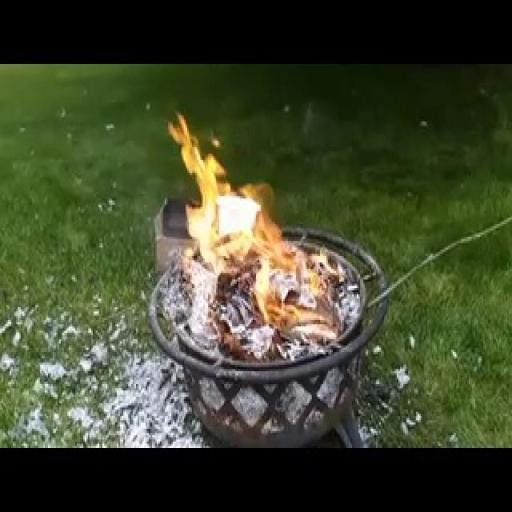smoke: (134, 136, 335, 360)
